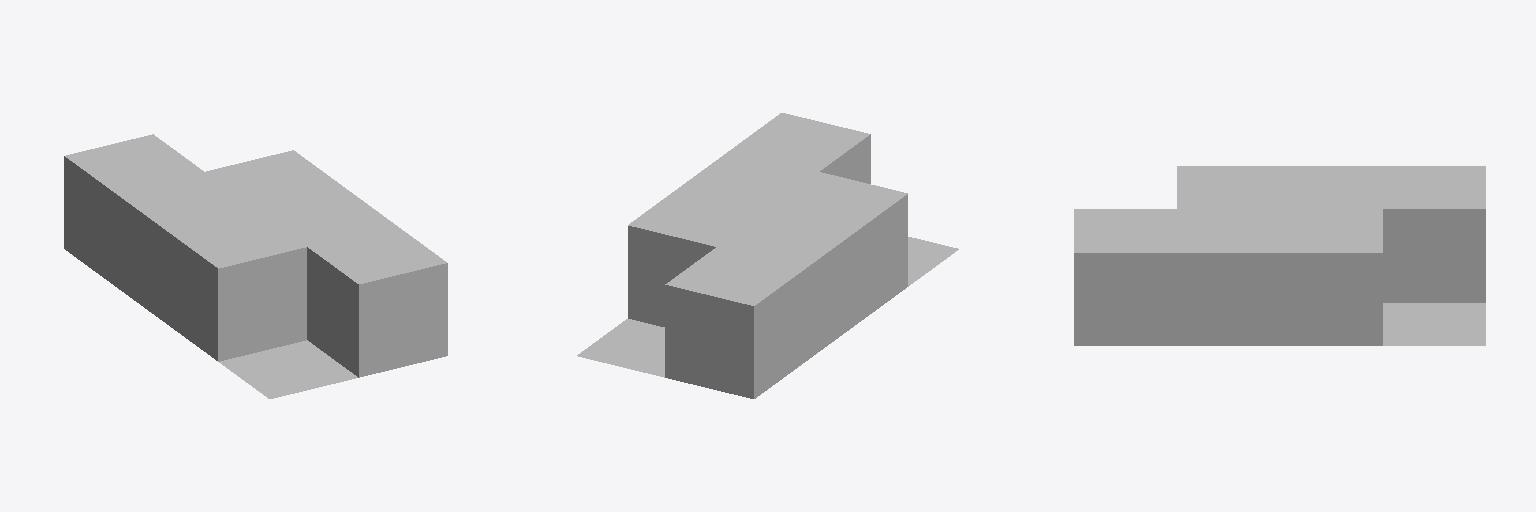
The picture shows the model from 3 angles: view 1: azimuth 30°, elevation 25°; view 2: azimuth 150°, elevation 25°; view 3: azimuth 270°, elevation 25°; orthographic projection.
Visible parts, largest first — view 1: Object(2,4)[length_1], Object(1,3)[length_1], Object(1,1)[length_1], Object(1,2)[length_1], Object(1,4)[length_0], Object(2,3)[length_1], Object(2,2)[length_1]; view 2: Object(1,1)[length_1], Object(1,2)[length_1], Object(1,3)[length_1], Object(2,2)[length_1], Object(2,4)[length_1], Object(2,3)[length_1], Object(2,1)[length_0], Object(1,4)[length_0]; view 3: Object(1,1)[length_1], Object(2,2)[length_1], Object(2,3)[length_1], Object(2,4)[length_1], Object(1,2)[length_1], Object(1,3)[length_1], Object(2,1)[length_0].
Part boxes in pixels (x1,y1,x2,y2): Object(2,4)[length_1]: (307, 225, 447, 377); Object(1,3)[length_1]: (167, 210, 306, 361); Object(1,1)[length_1]: (64, 134, 203, 286); Object(1,2)[length_1]: (116, 172, 255, 323); Object(1,4)[length_0]: (219, 340, 357, 398); Object(2,3)[length_1]: (256, 188, 395, 246); Object(2,2)[length_1]: (206, 150, 344, 208); Object(1,1)[length_1]: (665, 247, 805, 398); Object(1,2)[length_1]: (717, 210, 856, 360); Object(1,3)[length_1]: (768, 172, 907, 323); Object(2,2)[length_1]: (628, 188, 767, 326); Object(2,4)[length_1]: (731, 113, 870, 183); Object(2,3)[length_1]: (679, 150, 817, 208); Object(2,1)[length_0]: (577, 319, 664, 377); Object(1,4)[length_0]: (908, 237, 958, 286); Object(1,1)[length_1]: (1383, 166, 1485, 302); Object(2,2)[length_1]: (1280, 209, 1382, 345); Object(2,3)[length_1]: (1177, 209, 1279, 345); Object(2,4)[length_1]: (1074, 209, 1176, 345); Object(1,2)[length_1]: (1280, 166, 1382, 208); Object(1,3)[length_1]: (1177, 166, 1279, 208); Object(2,1)[length_0]: (1383, 303, 1485, 345).
Size of the model in its own units: 2 by 1 by 4.